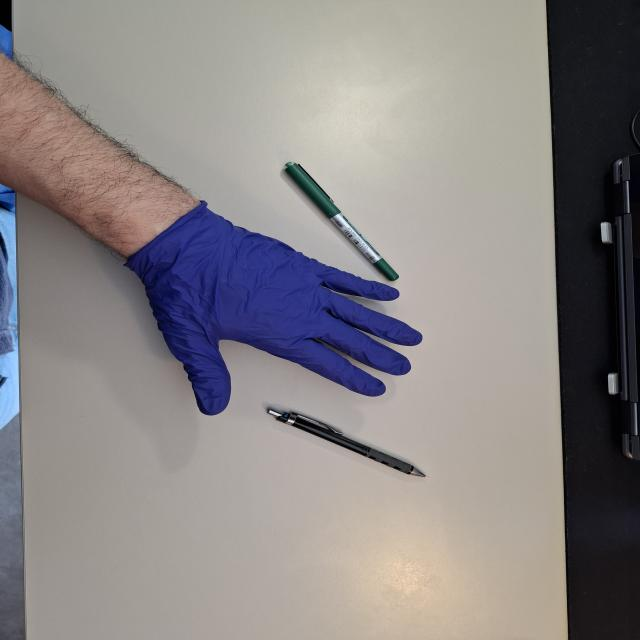glove_on: (120, 196, 426, 417)
